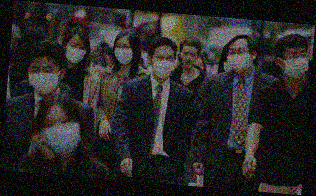with_mask: (40, 114, 81, 156), (27, 64, 61, 95), (225, 45, 254, 73), (284, 47, 310, 78), (150, 51, 176, 78), (113, 40, 134, 66), (65, 41, 87, 65)
without_mask: (180, 50, 198, 68)
